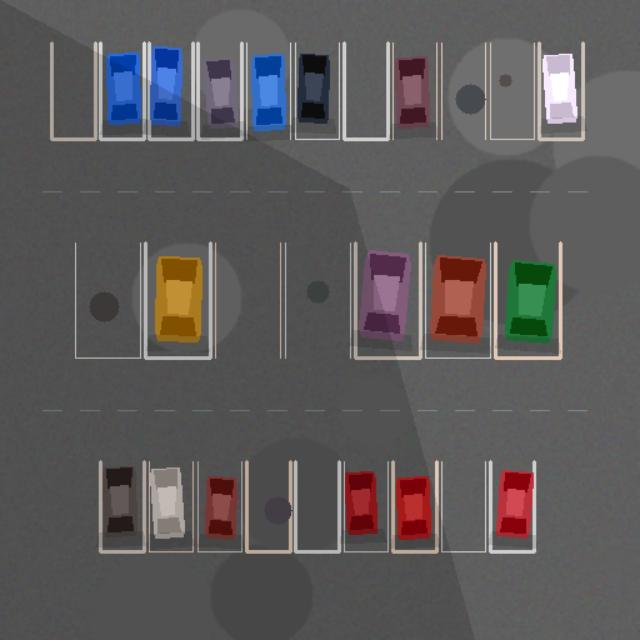space-empty: (75, 242, 140, 358), (215, 242, 280, 358), (285, 242, 350, 358), (51, 43, 95, 139), (441, 43, 485, 139), (490, 43, 534, 139), (344, 43, 387, 139), (246, 461, 290, 551), (295, 461, 339, 551), (441, 461, 485, 551)
space-occupied: (145, 242, 210, 358), (355, 242, 420, 358), (425, 242, 490, 358), (495, 242, 560, 358), (100, 43, 144, 139), (149, 43, 193, 139), (197, 43, 241, 139), (246, 43, 290, 139), (295, 43, 339, 139), (539, 43, 583, 139), (393, 43, 436, 139), (100, 461, 144, 551), (149, 461, 193, 551), (197, 461, 241, 551), (490, 461, 534, 551), (344, 461, 387, 551), (393, 461, 436, 551)
